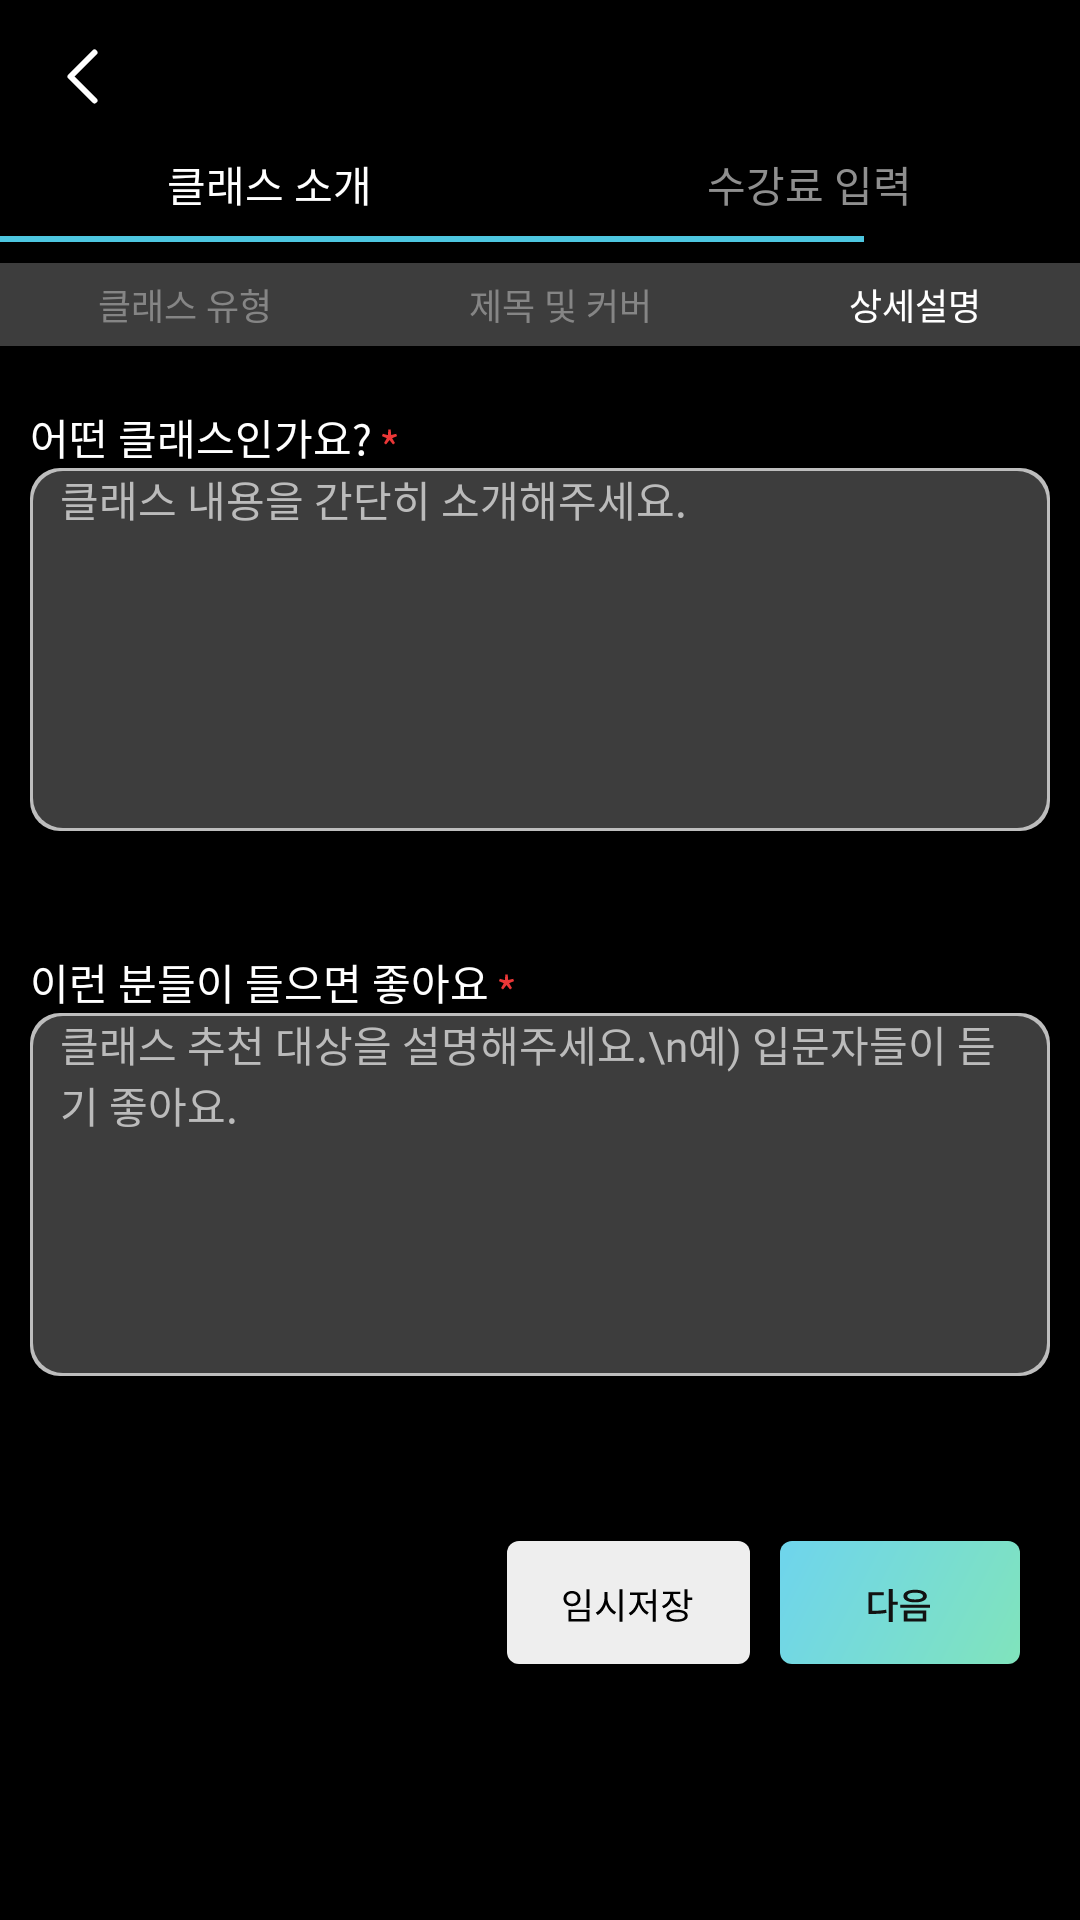

Locate icon controls on the screen. Image size 1080 × 1920, boxes as (x1, y1, x2, y2).
back key: (67, 49, 98, 104)
